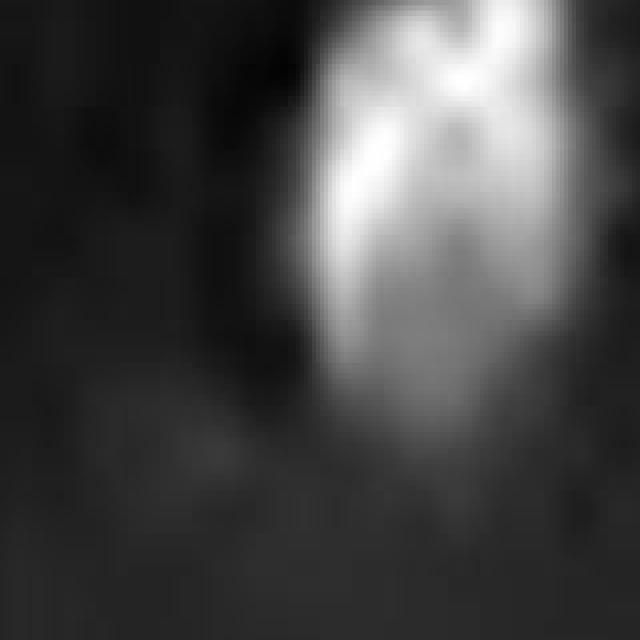person: (277, 1, 609, 524)
